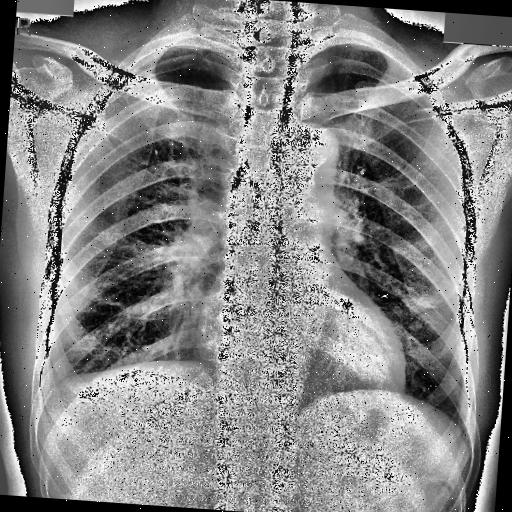0- Aortic enlargement: (275, 122, 344, 186), (283, 122, 341, 170)
10- Pleural effusion: (32, 371, 68, 416), (36, 366, 64, 404), (33, 365, 64, 399)
11- Pleural thickening: (106, 38, 171, 102), (32, 371, 68, 416), (36, 366, 64, 404), (33, 365, 64, 399)
5- ILD: (368, 228, 465, 398)
